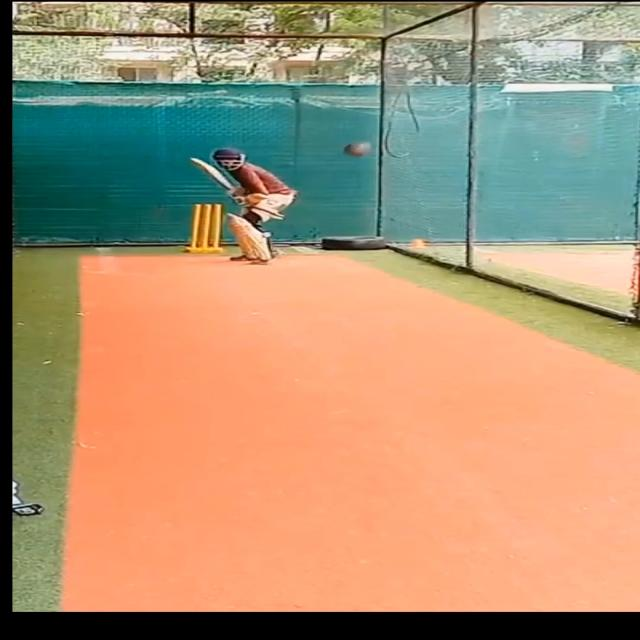ball: (340, 140, 372, 160)
stump: (184, 202, 226, 251)
